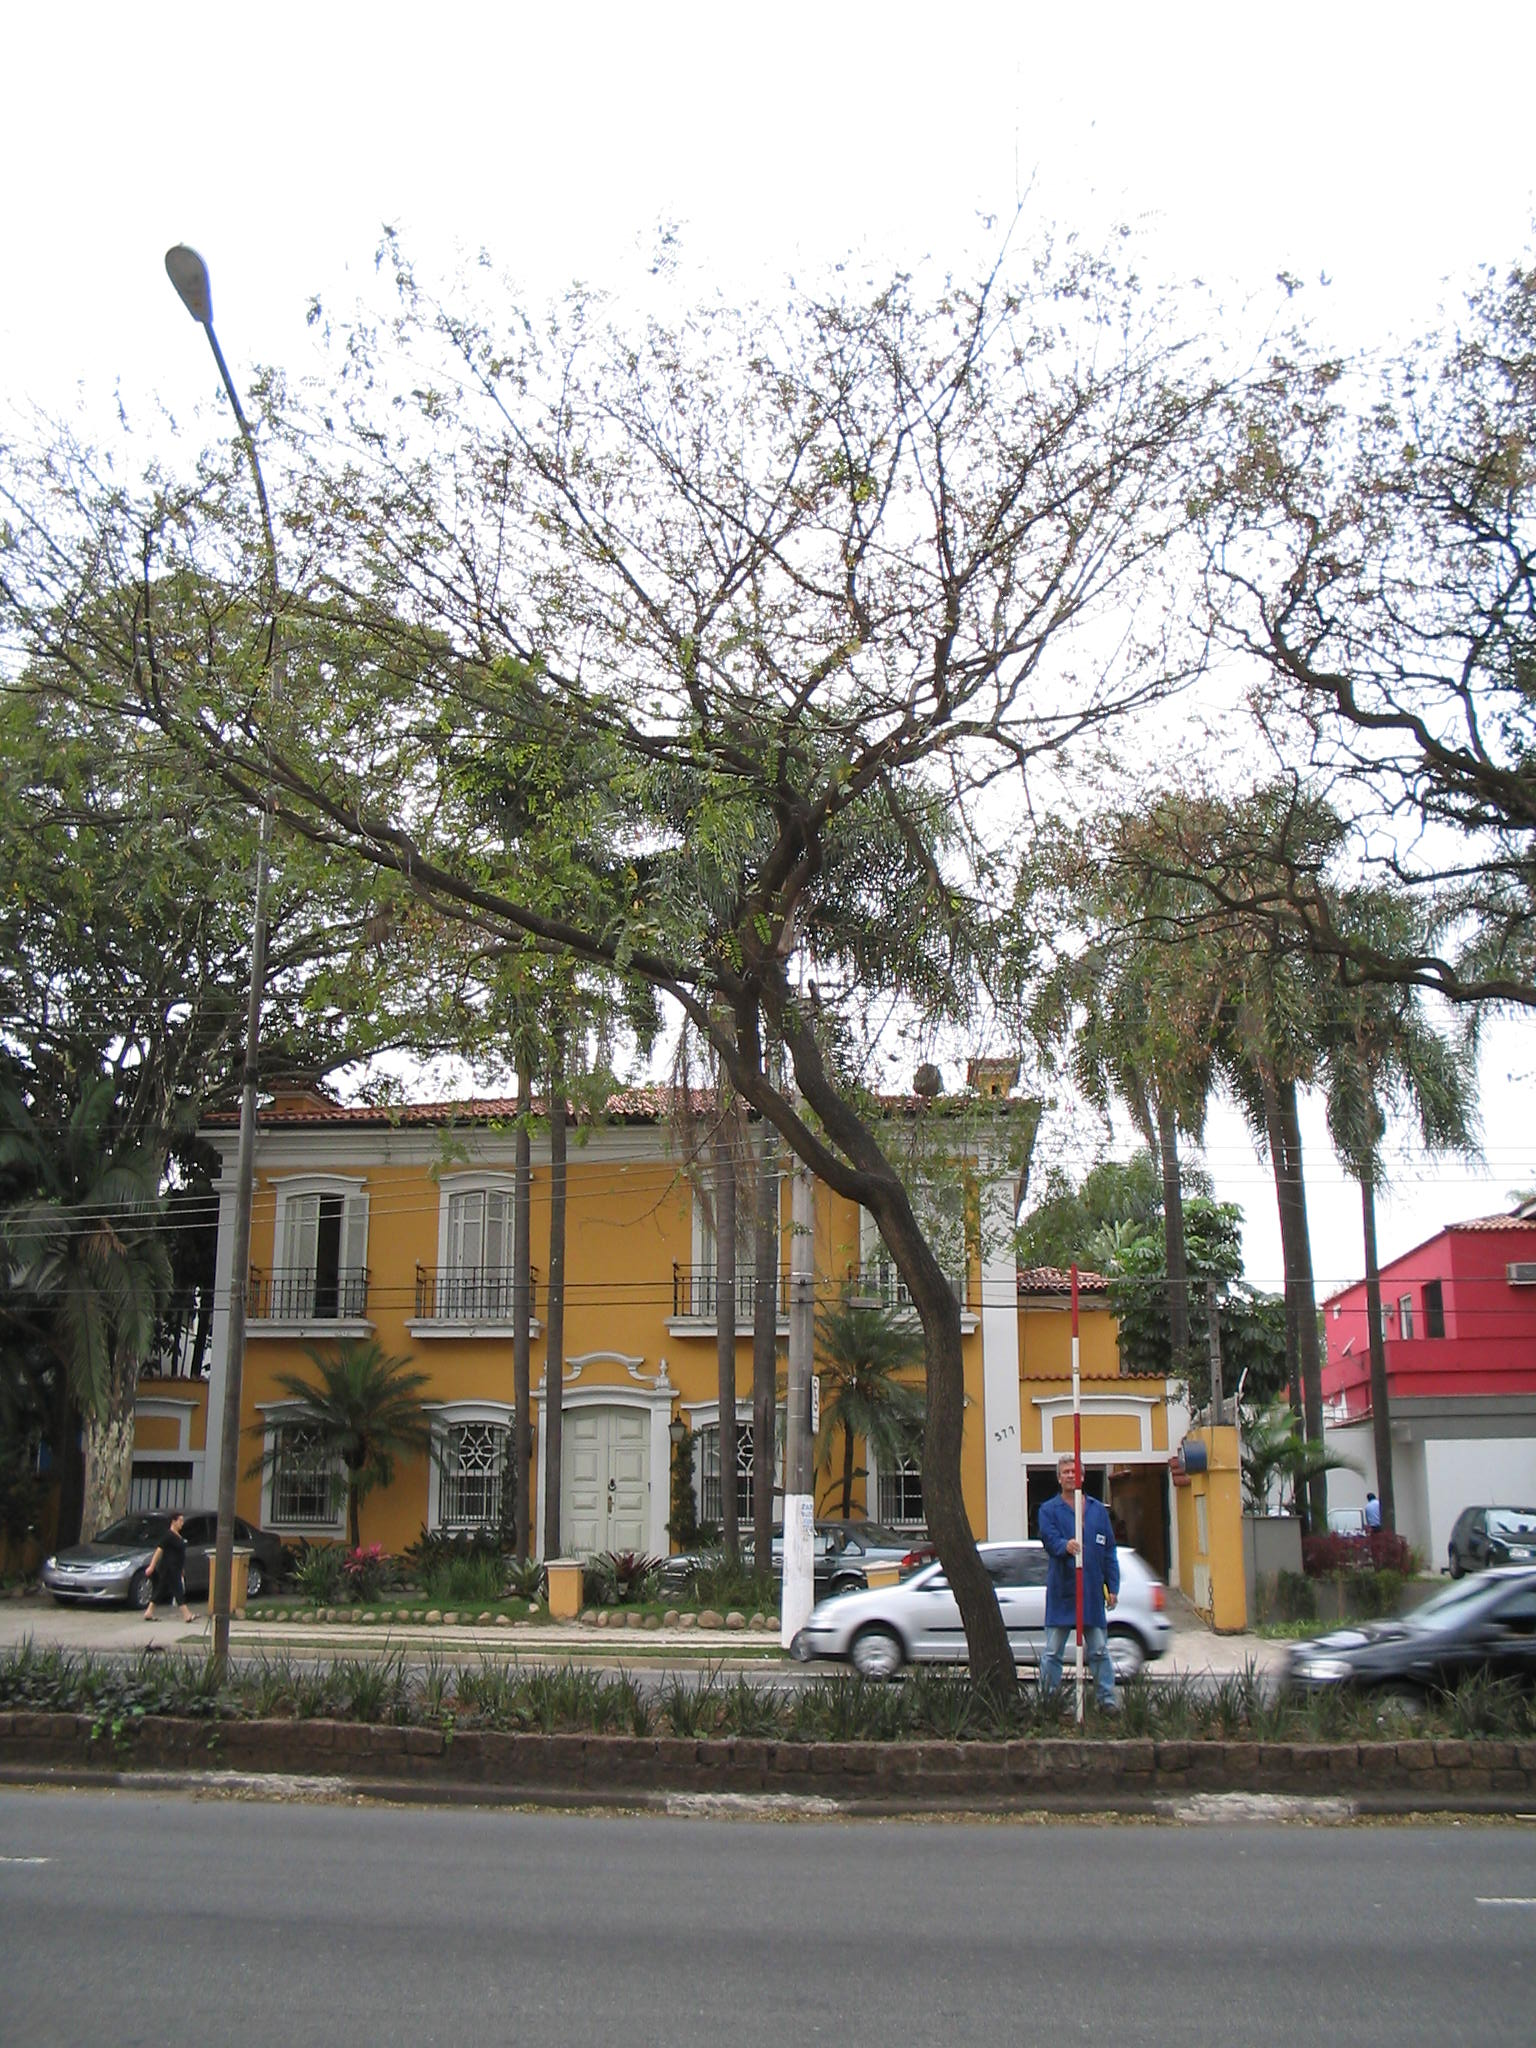stem: (833, 1200, 1062, 1725)
stick: (1047, 1263, 1115, 1734)
tree: (6, 200, 1310, 1732)
